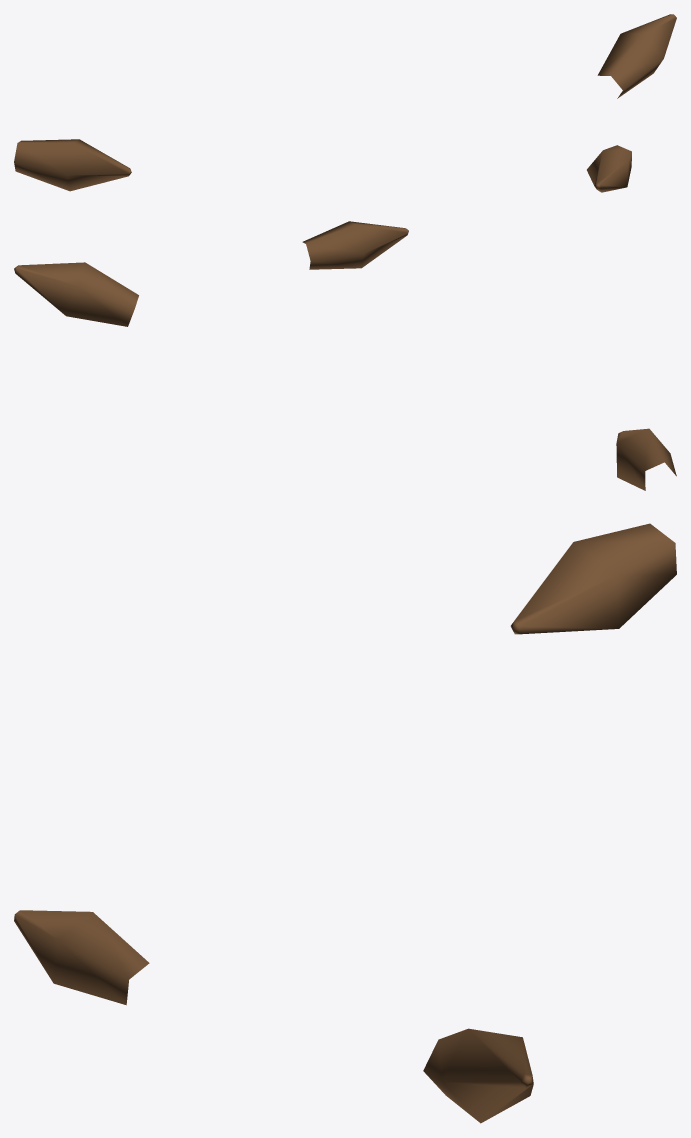
Rendered from pinecones-spruce-a.lod2.glb.
3 renders of one model, top to bottom at view 1: azimuth 30°, elevation 25°; view 2: azimuth 150°, elevation 25°; view 3: azimuth 270°, elevation 25°, orthographic. The views are drawn at different scales.
Size of the model in its own units: 0.7733 by 0.0639 by 0.3846.
